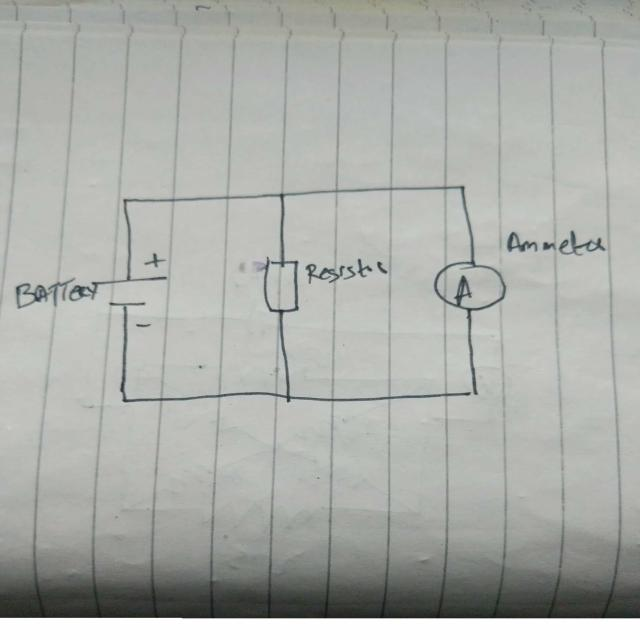junction: (117, 392, 132, 406), (117, 195, 133, 208), (454, 180, 470, 193), (281, 391, 296, 404), (467, 386, 482, 399), (274, 190, 290, 202)
resistor: (262, 254, 302, 316)
source: (90, 250, 176, 332)
text: (505, 228, 607, 260), (13, 276, 99, 309), (304, 255, 392, 284)
